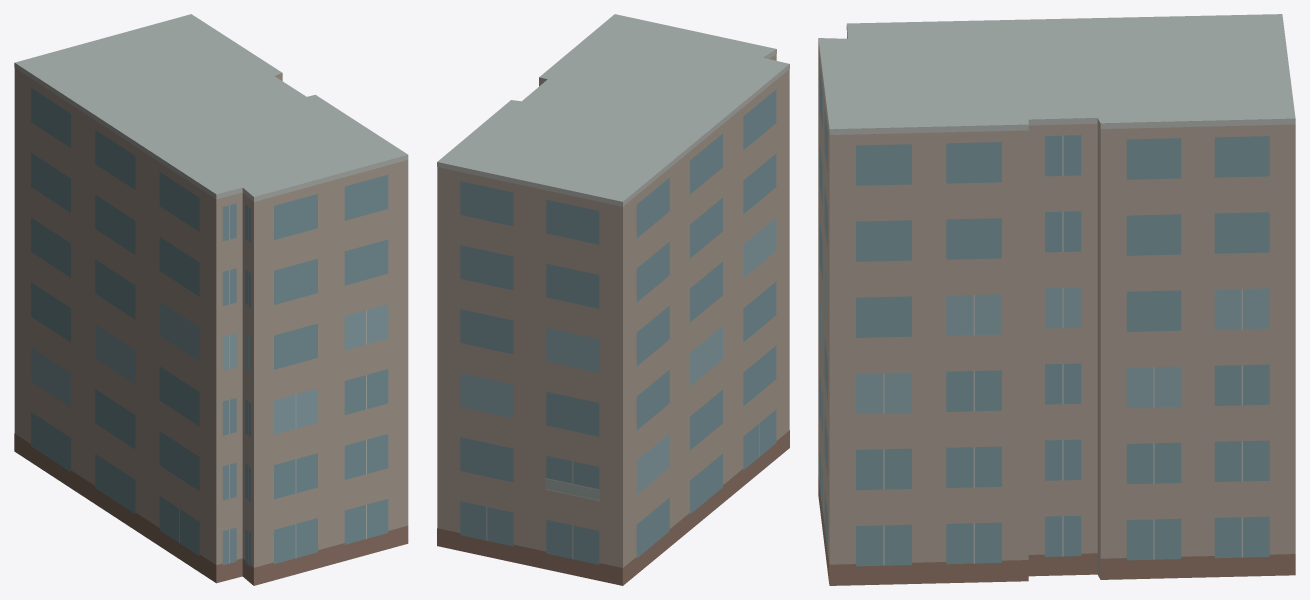
Rendered from survey-upis-32699063.glb.
3 renders of one model, left to right at view 1: azimuth 30°, elevation 25°; view 2: azimuth 150°, elevation 25°; view 3: azimuth 270°, elevation 25°, orthographic. The views are drawn at different scales.
Parts seen in each view (by area): view 1: survey-upis-32699063.tmp; view 2: survey-upis-32699063.tmp; view 3: survey-upis-32699063.tmp.
Boxes of the visible parts, x1,y1,x2,y2 form: survey-upis-32699063.tmp: [14, 14, 408, 585]; survey-upis-32699063.tmp: [437, 14, 789, 585]; survey-upis-32699063.tmp: [818, 14, 1295, 585].
Bounding box in the file's own units: 10.24 × 18.9 × 17.91.
